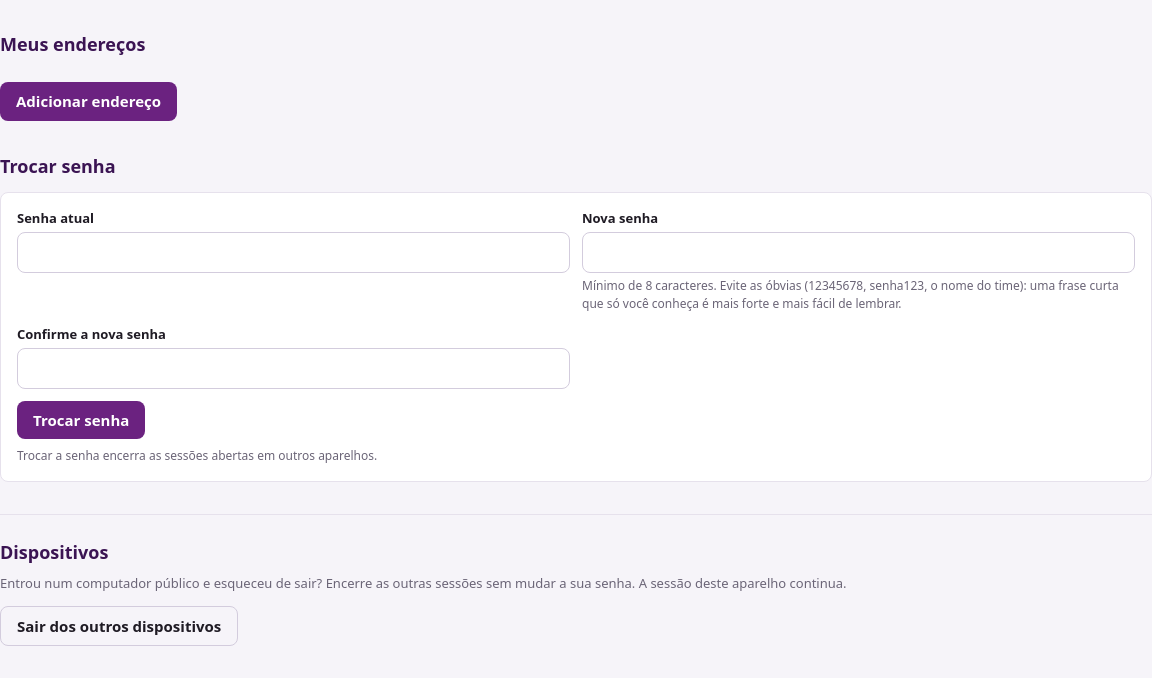
troca de senha › manda a senha atual junto — o servidor exige
Type "a-antiga" into the password field labelled "Senha atual".
click(294, 252); type("a-antiga")  # box x1=17 y1=232 x2=570 y2=272
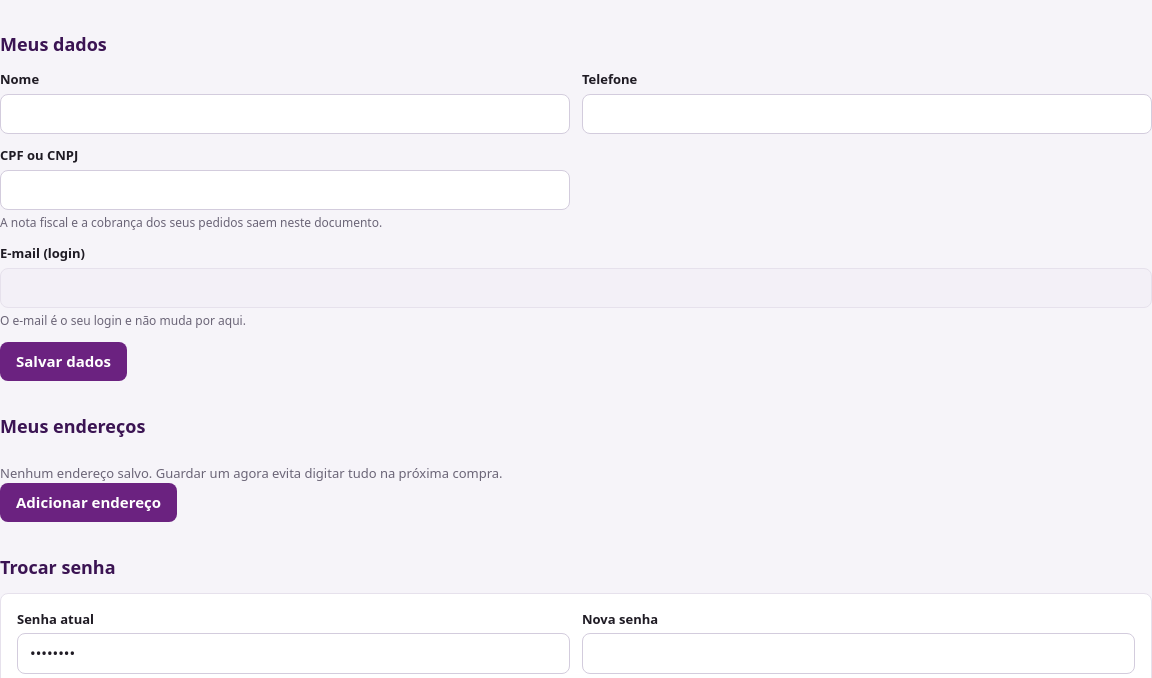
Type "a-nova-maior" into the password field labelled "Nova senha".
click(858, 653); type("a-nova-maior")  # box x1=582 y1=633 x2=1135 y2=674
(page scrolled)
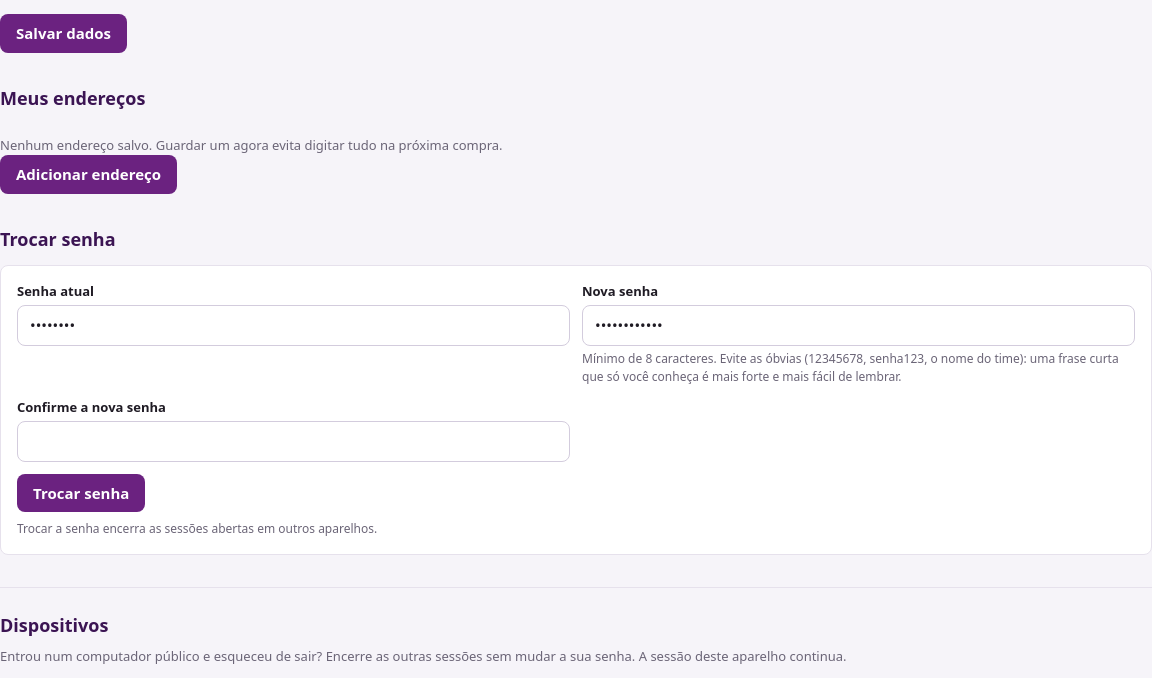
Type "a-nova-maior" into the password field labelled "Confirme a nova senha".
click(294, 441); type("a-nova-maior")  # box x1=17 y1=421 x2=570 y2=462
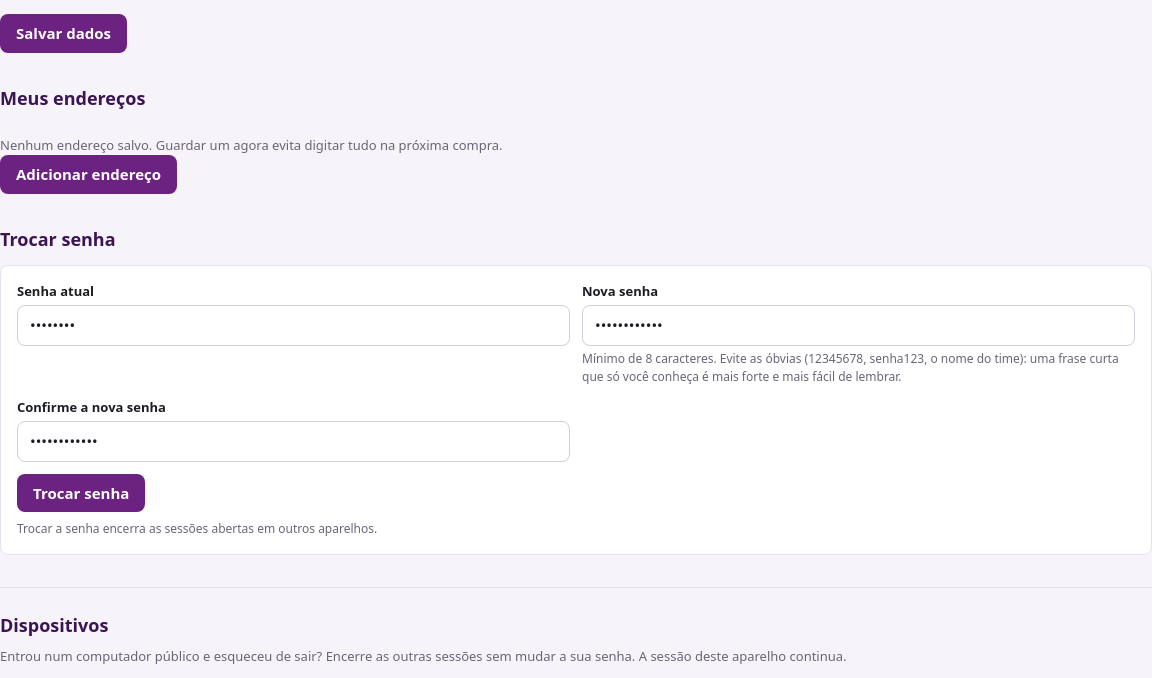
Click the button "Trocar senha".
click(81, 493)  # box x1=17 y1=474 x2=145 y2=512
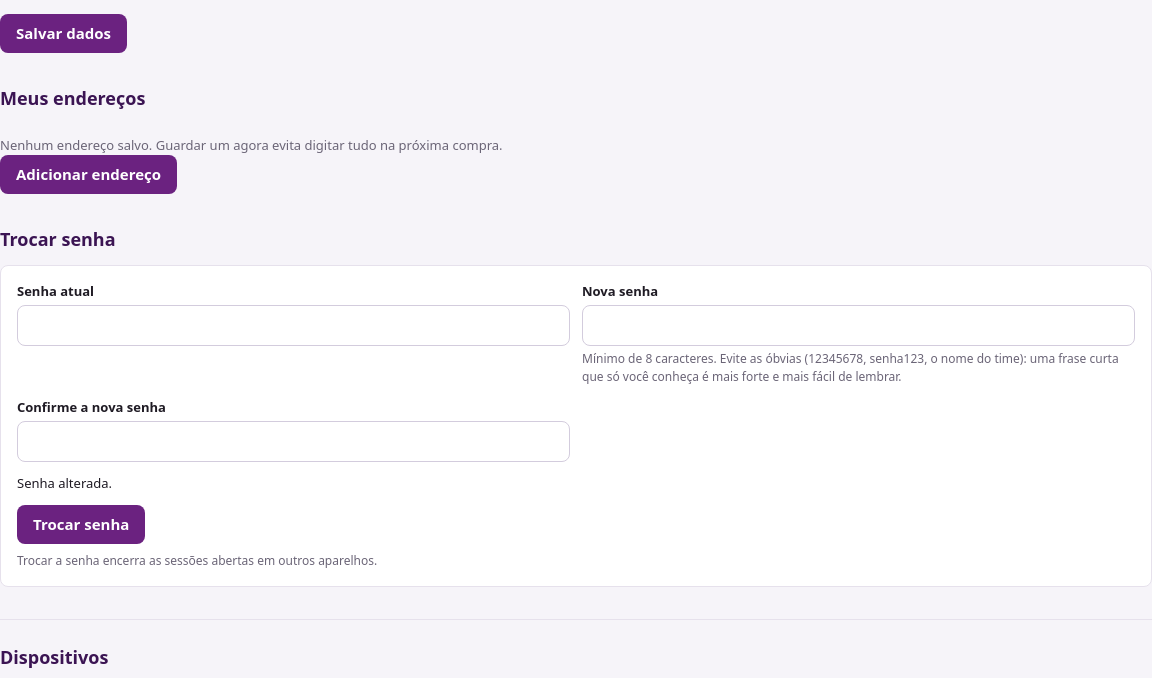
Check: the text "Senha alterada." is shown, box x1=17 y1=474 x2=112 y2=492
